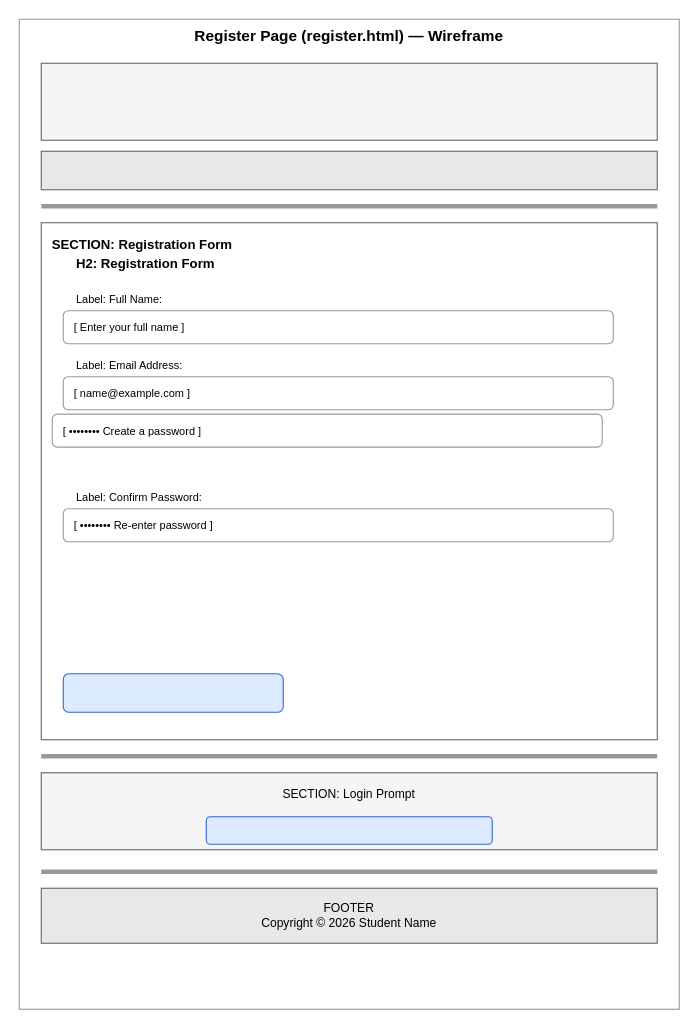
This 699x1029 diagram has some shape labels left out. The shapes that lost their labels are listed below. From the top down, each one's box as (x1, y1, x2, y2) in pixels, then its label:
(40, 62, 657, 140): HEADER Create an Account Register to join
(40, 150, 657, 190): NAV: ← Back to Home Page
(62, 673, 283, 712): [ Register Account ]
(205, 816, 492, 844): [ Click here to log in ] (link, bold)
